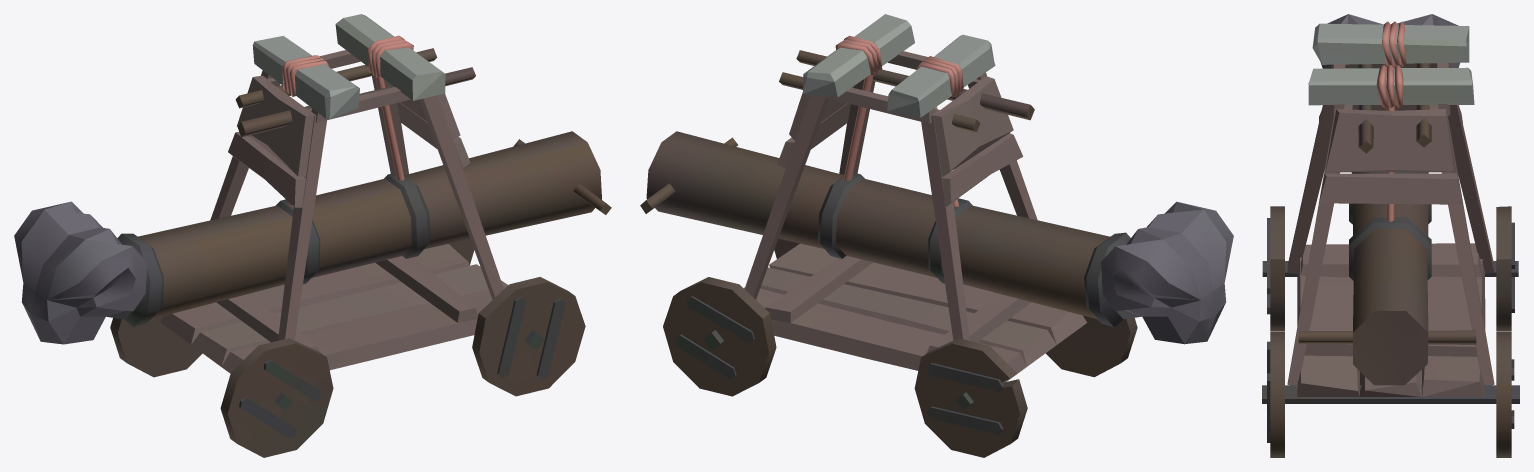
3 views of the same model, side by side, from view 1: azimuth 30°, elevation 25°; view 2: azimuth 150°, elevation 25°; view 3: azimuth 270°, elevation 25° (orthographic). The views are drawn at different scales.
Visible parts, largest first — view 1: Plane_0; view 2: Plane_0; view 3: Plane_0.
Boxes of the visible parts, x1,y1,x2,y2 form: Plane_0: [14, 14, 611, 457]; Plane_0: [640, 14, 1233, 457]; Plane_0: [1262, 14, 1519, 457].
Bounding box in the file's own units: 5.36 × 3.05 × 2.11.
Materials: 1 (1 with a texture image).
